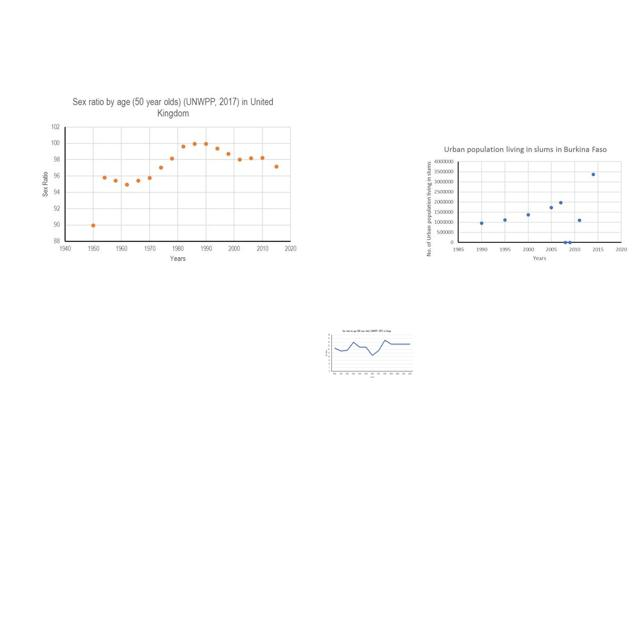Graph: (35, 94, 301, 265), (423, 143, 630, 263), (324, 329, 414, 379)
